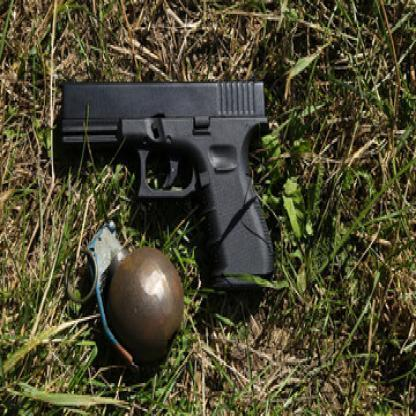Grenade: (83, 218, 185, 373)
Pistol: (60, 79, 274, 287)
